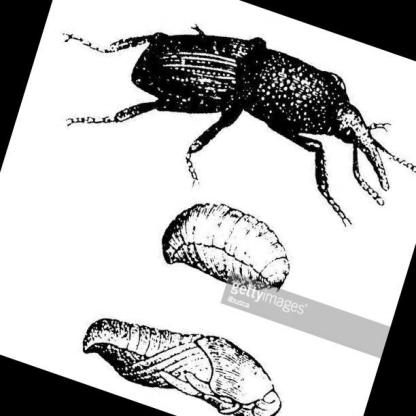ash weevil: (111, 33, 390, 193)
